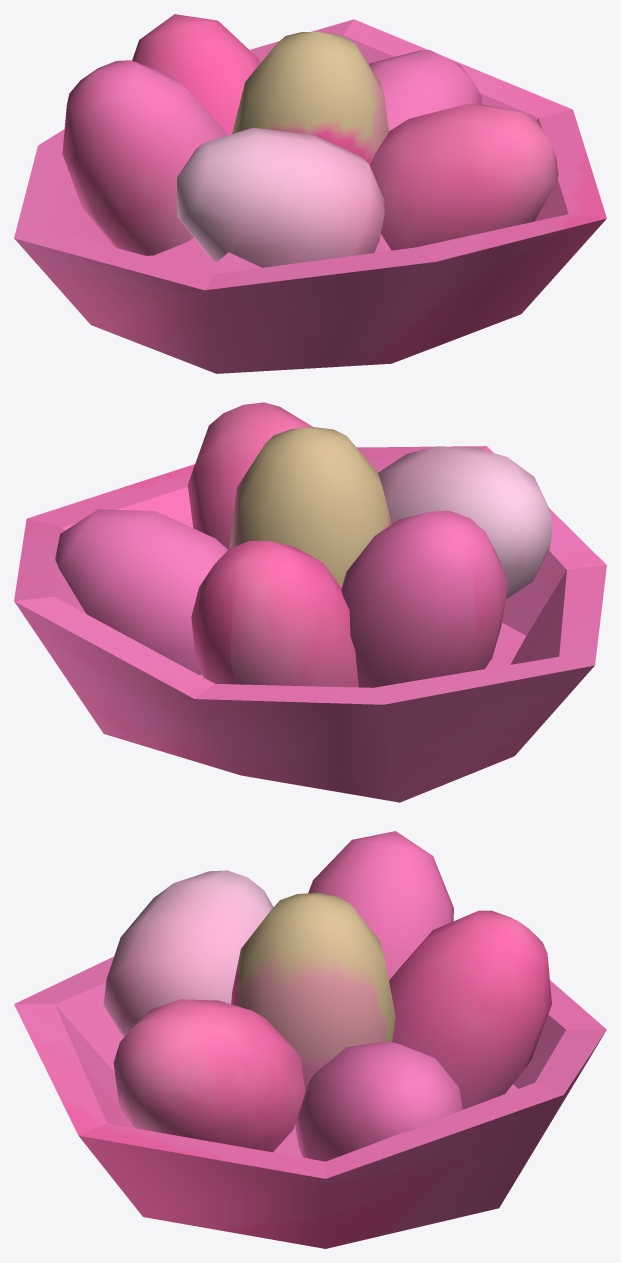
File: ChikEgg.fbx
3 renders of one model, top to bottom at view 1: azimuth 30°, elevation 25°; view 2: azimuth 150°, elevation 25°; view 3: azimuth 270°, elevation 25°, orthographic. The views are drawn at different scales.
Parts seen in each view (by area): view 1: Cylinder001; view 2: Cylinder001; view 3: Cylinder001.
Boxes of the visible parts, x1=… form: Cylinder001: x1=14, y1=14, x2=606, y2=373; Cylinder001: x1=14, y1=402, x2=606, y2=802; Cylinder001: x1=14, y1=831, x2=606, y2=1248.
Size of the model in its own units: 63.5 by 27.66 by 57.43.
